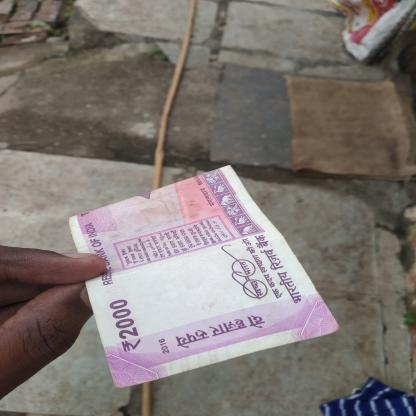New2000Back: (86, 165, 298, 355)
